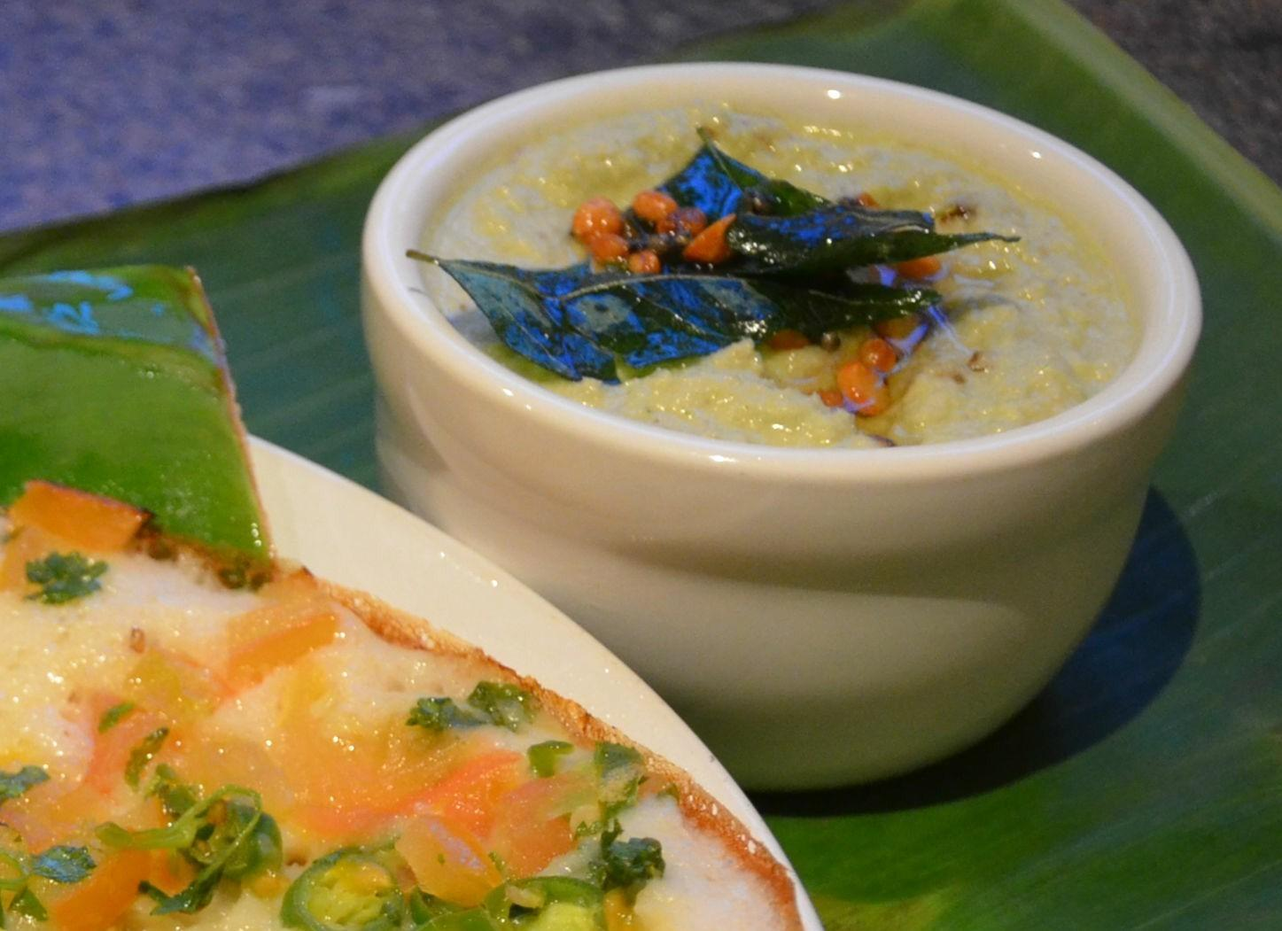CoconutChutney: (422, 101, 1125, 453)
